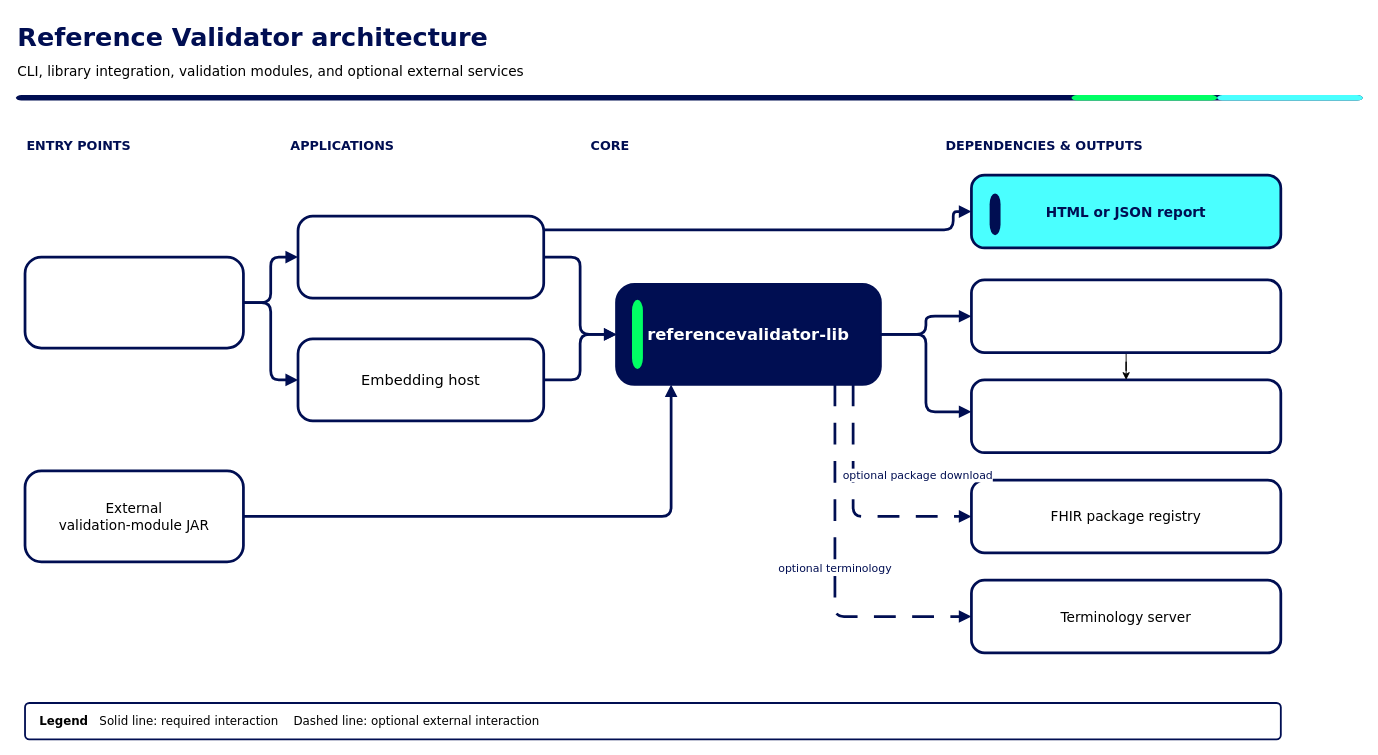
The diagram is 1378 pixels wide and 755 high, and some of its shapes have lost their labels. The centre of each missing label's shape, as x and y in pixels:
"CLI user or embedding host" belongs at point 133,302.
"HL7 Core Validator" belongs at point 1126,316.
"referencevalidator-cli" belongs at point 420,256.
"validation-module-api" belongs at point 1126,416.
